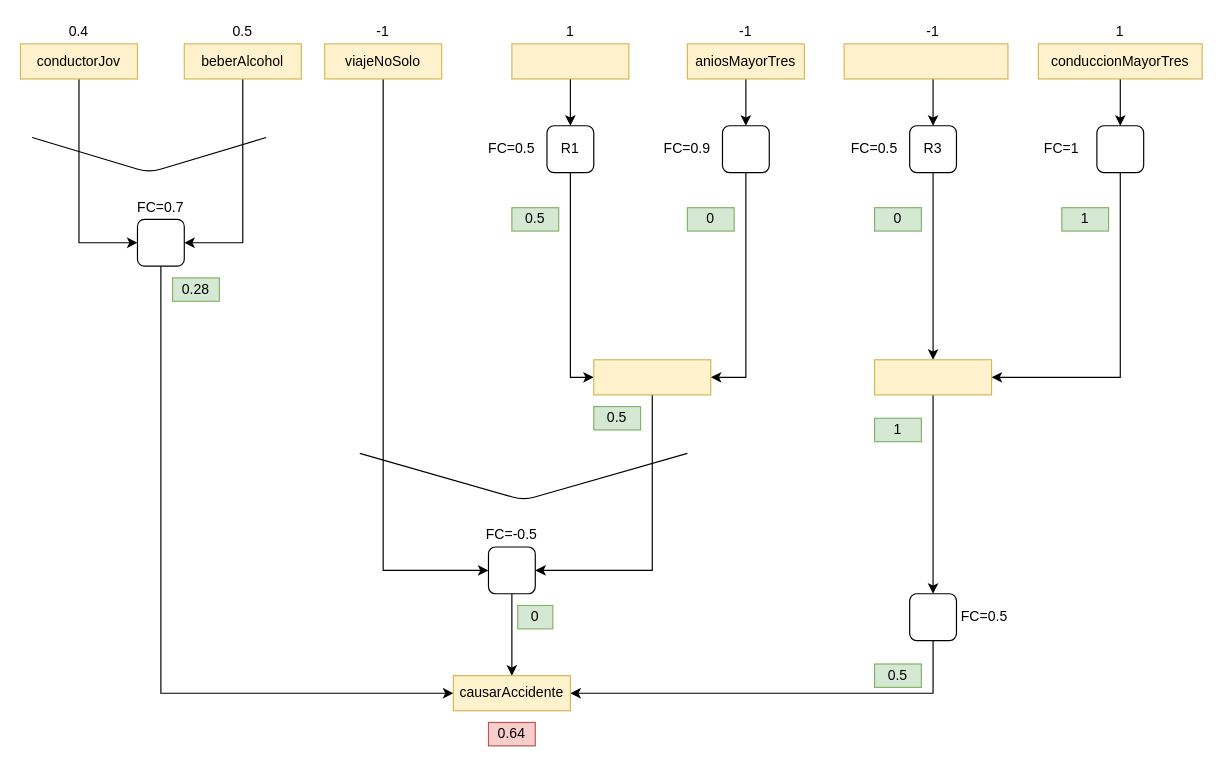
The diagram is 1223 pixels wide and 766 high, and some of its shapes have lost their labels. Here are the shapes that lost their labels. From the top down, the box of each, then its label:
(511, 43, 629, 79): aniosDosTres
(843, 43, 1008, 79): conduccionDosTres
(721, 125, 769, 173): R2
(1096, 125, 1144, 173): R4
(136, 218, 184, 266): R7
(593, 359, 711, 395): Experimentado
(873, 359, 992, 395): Cansado
(487, 546, 535, 594): R5
(909, 593, 956, 641): R6
